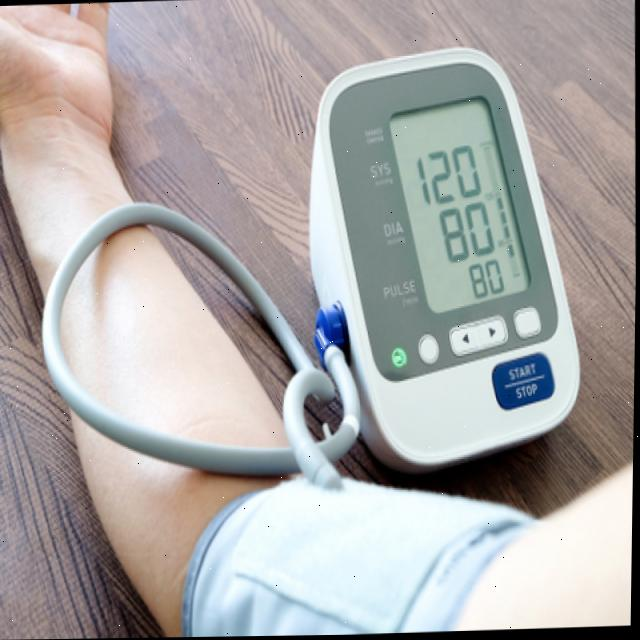dia: (432, 196, 506, 266)
pul: (464, 257, 511, 302)
ssd: (388, 95, 533, 316)
sys: (409, 133, 492, 213)
